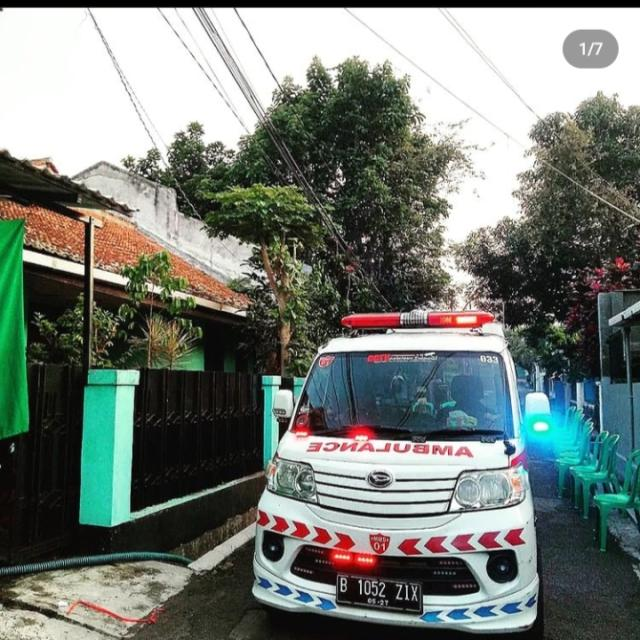emergency-vehicle: (253, 311, 550, 639)
